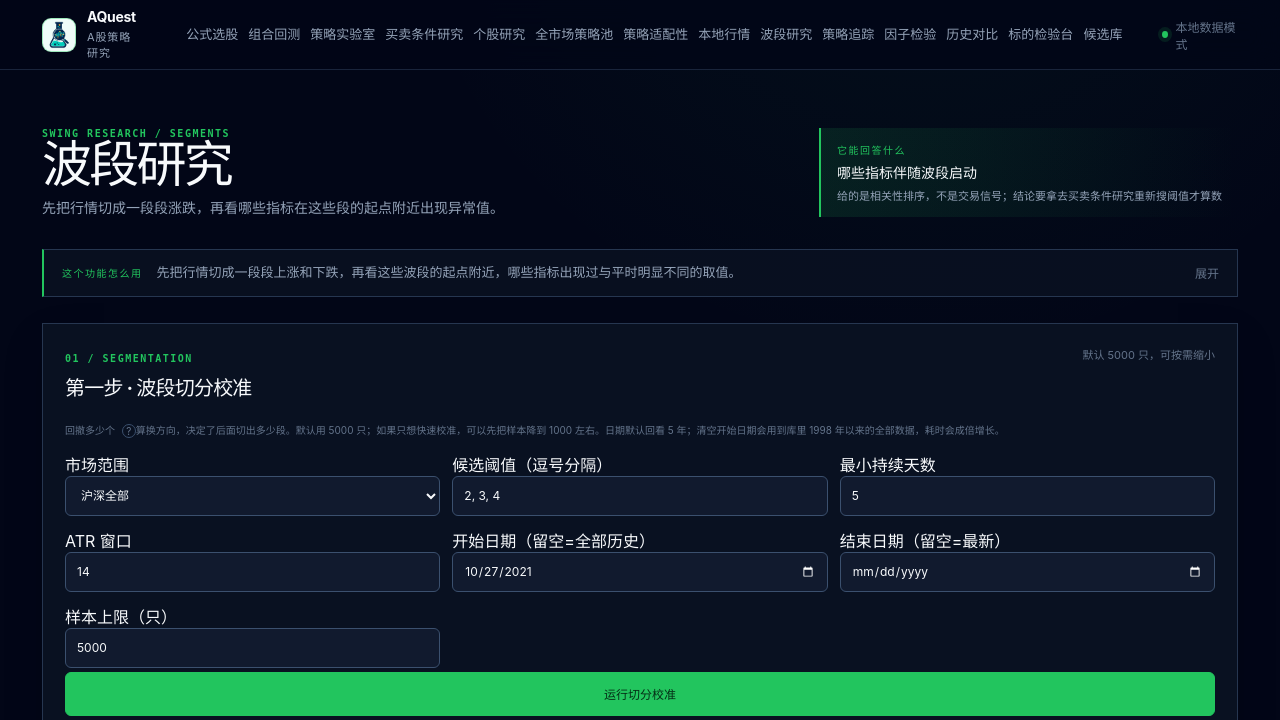
SwingResearchPage › renders the segmentation calibration table with amplitudes as percentages
Click the button with test id "swing-overview-run" at (640, 694), box [65,672,1215,716]
(page scrolled)
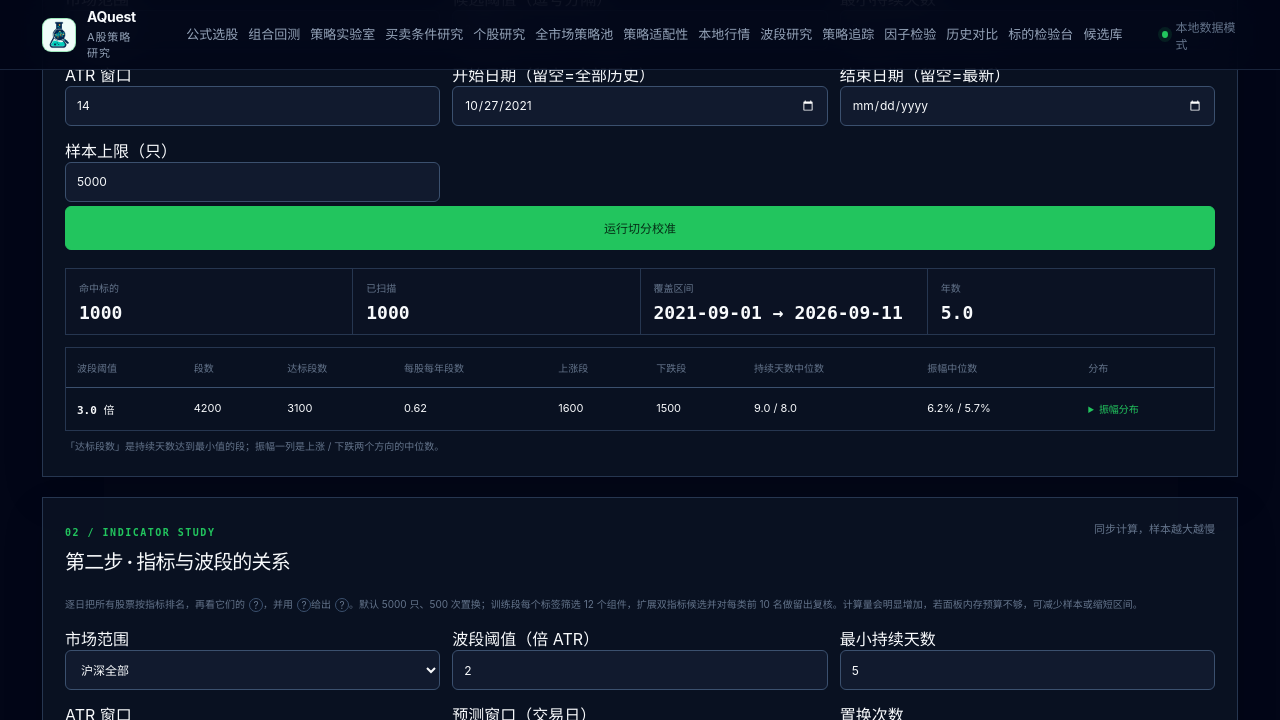
Expected: the number of rows with test id "swing-scenario-row" is 1, [66,387,1214,430]
Expected: the row with test id "swing-scenario-row" shows "3.0 倍", [77,404,114,417]
Expected: the row with test id "swing-scenario-row" shows "6.2% / 5.7%", [927,401,991,415]
